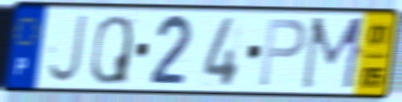2: (148, 11, 195, 90)
4: (201, 14, 241, 90)
J: (45, 12, 90, 86)
M: (298, 15, 369, 93)
P: (256, 16, 308, 89)
Q: (88, 13, 134, 87)
